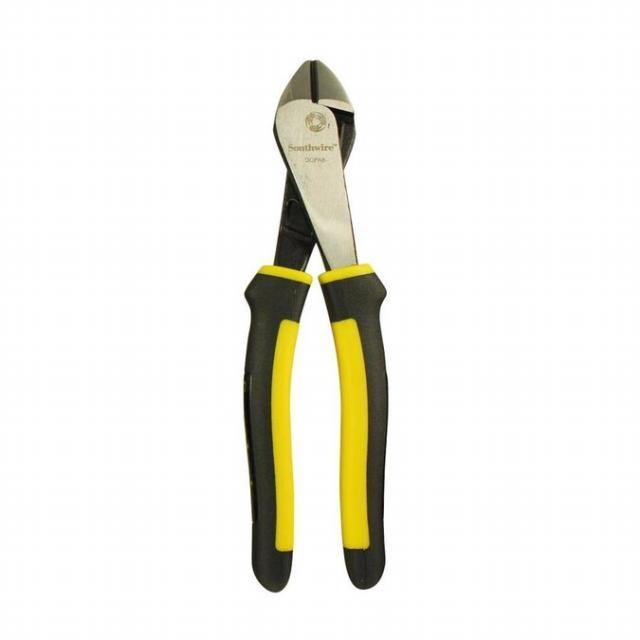pliers: (230, 53, 398, 595)
